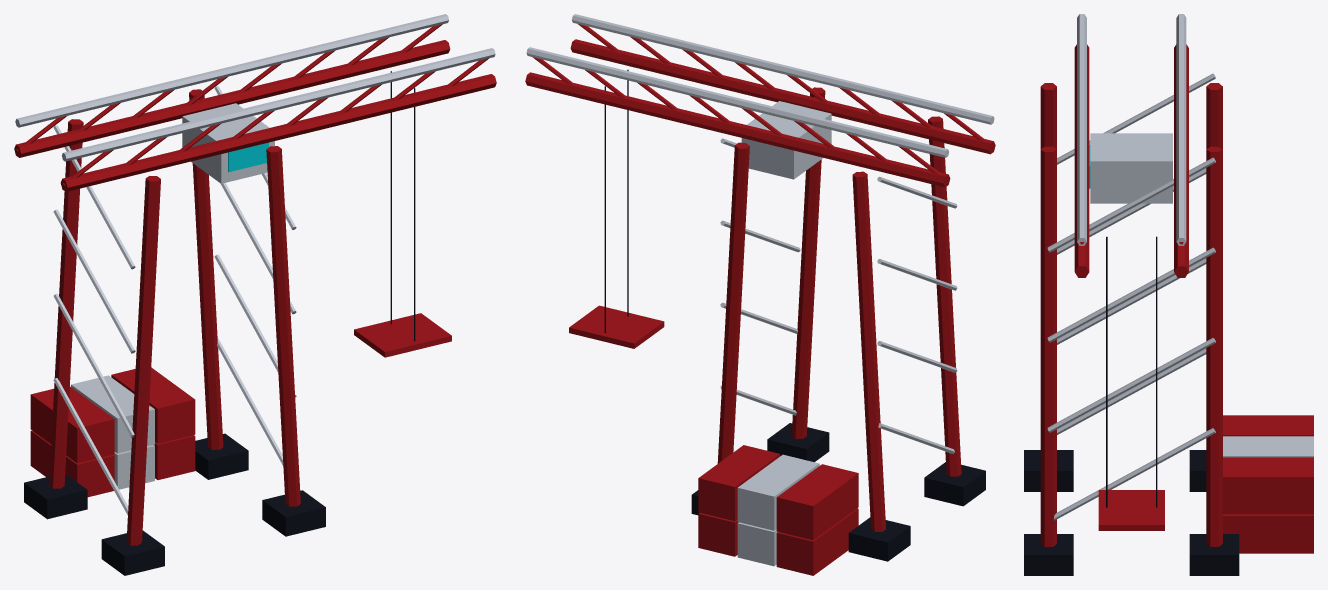
Rendered from harbor_gantry_crane.glb.
The picture shows the model from 3 angles, left to right: view 1: azimuth 30°, elevation 25°; view 2: azimuth 150°, elevation 25°; view 3: azimuth 270°, elevation 25°; orthographic projection. The views are drawn at different scales.
Parts seen in each view (by area): view 1: HarborCraneMat; view 2: HarborCraneMat; view 3: HarborCraneMat.
Boxes of the visible parts, left/top/right/bottom form: HarborCraneMat: left=14, top=14, right=496, bottom=575; HarborCraneMat: left=525, top=14, right=995, bottom=575; HarborCraneMat: left=1024, top=14, right=1313, bottom=575.
Size of the model in its own units: 32.12 by 29.28 by 17.5.
